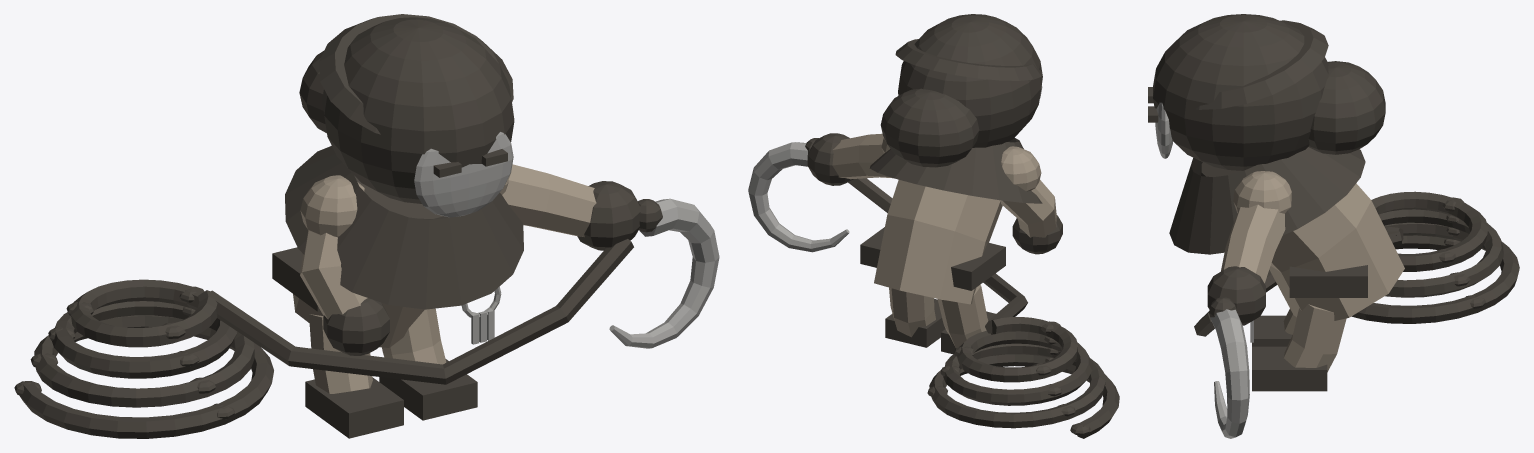
File: gaoler_chibi.glb
3 renders of one model, left to right at view 1: azimuth 30°, elevation 25°; view 2: azimuth 150°, elevation 25°; view 3: azimuth 270°, elevation 25°, orthographic. The views are drawn at different scales.
Visible parts, largest first — view 1: gaoler_chibi_dark, gaoler_chibi_body, gaoler_chibi_bone; view 2: gaoler_chibi_dark, gaoler_chibi_body, gaoler_chibi_bone; view 3: gaoler_chibi_dark, gaoler_chibi_body, gaoler_chibi_bone.
Boxes of the visible parts, x1,y1,x2,y2 form: gaoler_chibi_dark: (14, 14, 662, 438); gaoler_chibi_body: (293, 164, 596, 393); gaoler_chibi_bone: (414, 132, 719, 348); gaoler_chibi_dark: (805, 14, 1119, 438); gaoler_chibi_body: (832, 133, 1056, 348); gaoler_chibi_bone: (748, 85, 1042, 252); gaoler_chibi_dark: (1148, 14, 1519, 391); gaoler_chibi_body: (1221, 171, 1404, 372); gaoler_chibi_bone: (1155, 102, 1253, 438).
Size of the model in its own units: 3.57 by 2.35 by 2.31.
